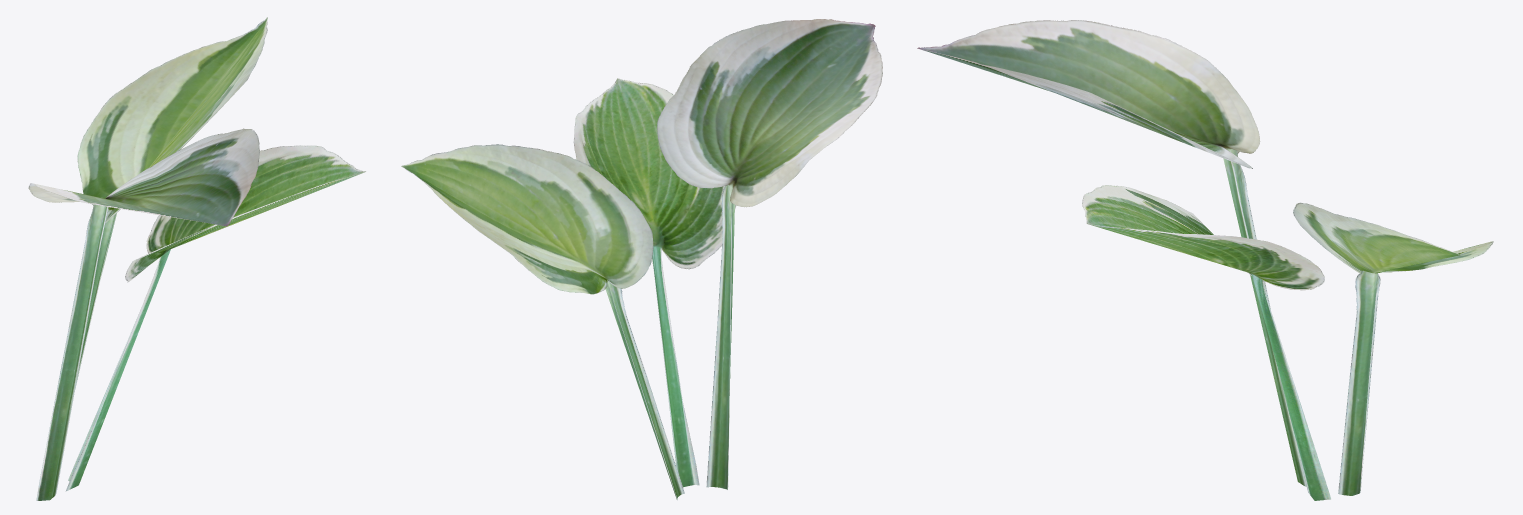
Rendered from plant_small_wg_00_fillerA_wild.fbx.
3 views of the same model, side by side, from view 1: azimuth 30°, elevation 25°; view 2: azimuth 150°, elevation 25°; view 3: azimuth 270°, elevation 25° (orthographic). The views are drawn at different scales.
Visible parts, largest first — view 1: plant_small_wg_00_fillerA_wild; view 2: plant_small_wg_00_fillerA_wild; view 3: plant_small_wg_00_fillerA_wild.
Boxes of the visible parts, <box> form: plant_small_wg_00_fillerA_wild: <box>28,17,365,500</box>; plant_small_wg_00_fillerA_wild: <box>401,19,882,500</box>; plant_small_wg_00_fillerA_wild: <box>917,20,1493,500</box>.
Size of the model in its own units: 27.15 by 28.91 by 34.46.
